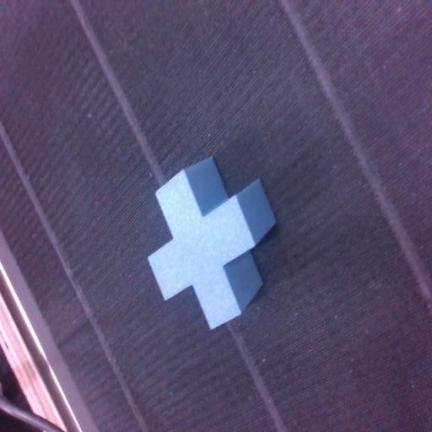cross: (149, 158, 275, 328)
